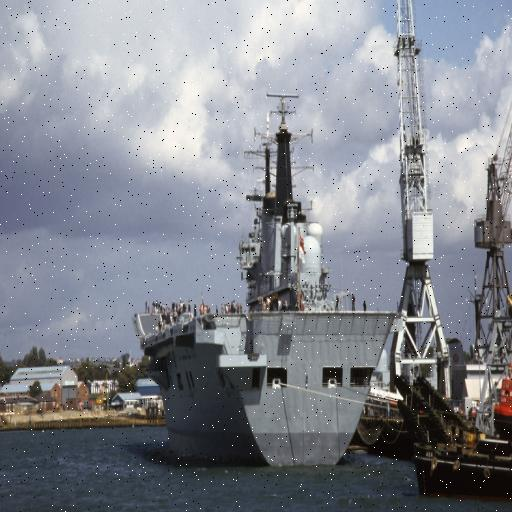Portanaves: (132, 80, 405, 476)
